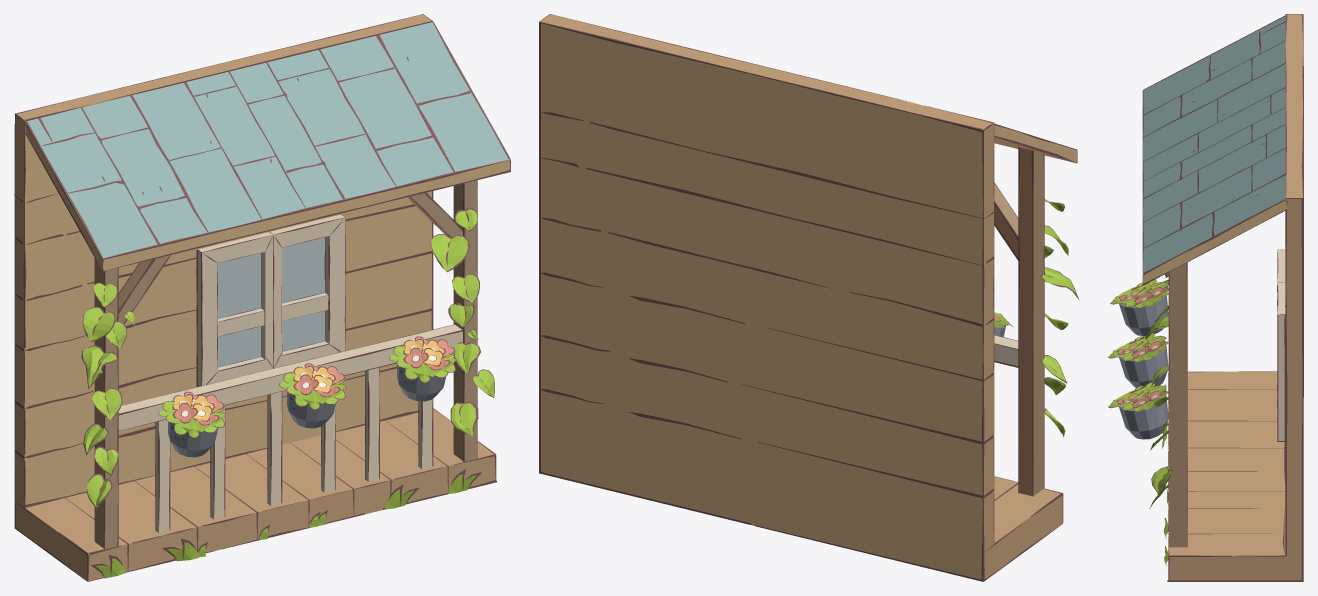
File: Mesh_Home_B_Idyll_23_SM.fbx
3 renders of one model, left to right at view 1: azimuth 30°, elevation 25°; view 2: azimuth 150°, elevation 25°; view 3: azimuth 270°, elevation 25°, orthographic. The views are drawn at different scales.
Visible parts, largest first — view 1: Mesh_Home_B_Idyll_23; view 2: Mesh_Home_B_Idyll_23; view 3: Mesh_Home_B_Idyll_23.
Part boxes in pixels (<box>): Mesh_Home_B_Idyll_23: <box>14,14,510,581</box>; Mesh_Home_B_Idyll_23: <box>539,14,1079,581</box>; Mesh_Home_B_Idyll_23: <box>1108,14,1303,581</box>.
Bounding box in the file's own units: 204 × 195 × 90.04.
1 material, 1 textured.
